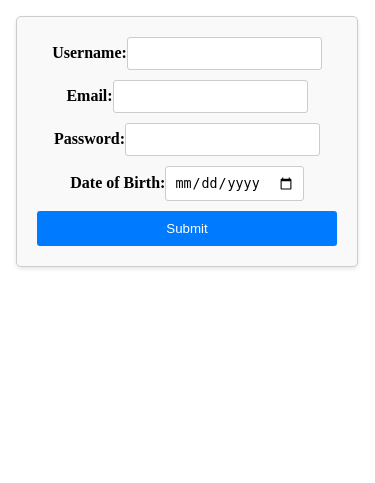
Scenario: registration form submit functionality › sees submitted information with username, email, date of birth
Type "user" into the field named "username" next to "Username:" at (225, 54), box [127,37,322,70]
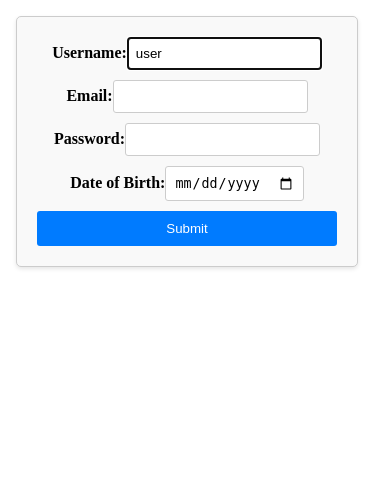
Type "user@gmail.com" into the field named "email" next to "Email:" at (211, 97), box [113,80,308,113]
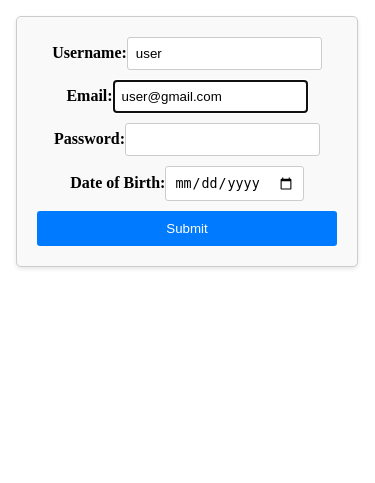
Type "456123" into the password field named "password" at (223, 140), box [125,123,320,156]
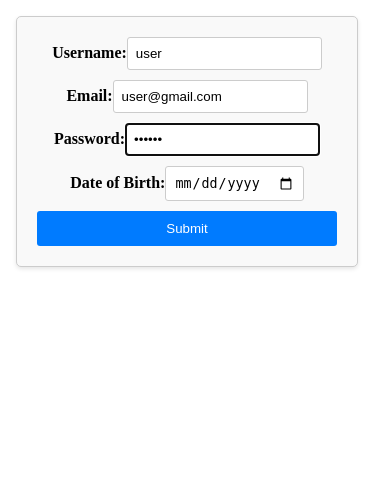
Type "1990-01-01" into the date field named "dob" at (234, 184), box [165,166,303,201]
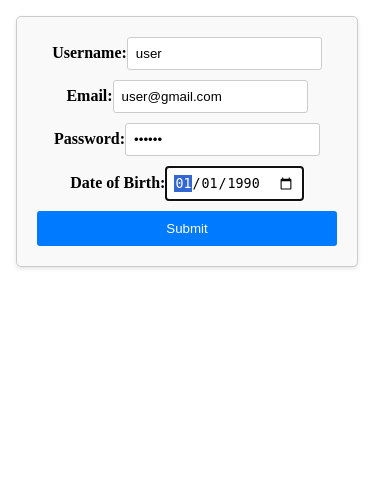
Click the button "Submit" at (187, 229), box [37,211,337,246]
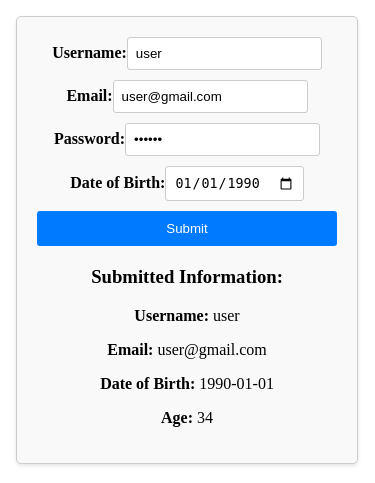
Expected: the element with class "submitted-info" reads "Username: user", [134,307,239,324]
Expected: the element with class "submitted-info" reads "Email: user@gmail.com", [107,341,267,358]
Expected: the element with class "submitted-info" reads "Date of Birth: 1990-01-01", [100,375,274,392]
